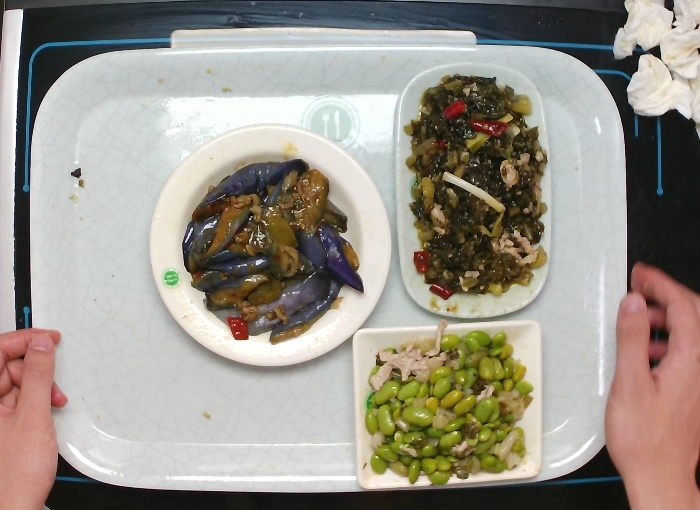WCQzf-Bai_Se_Si_Fang_Die: (343, 313, 546, 498)
WCQzf-Kuan_Bian_Yuan_Die: (145, 124, 392, 374)
WCQzf-Tuo_Yuan_Pan: (390, 57, 558, 318)
